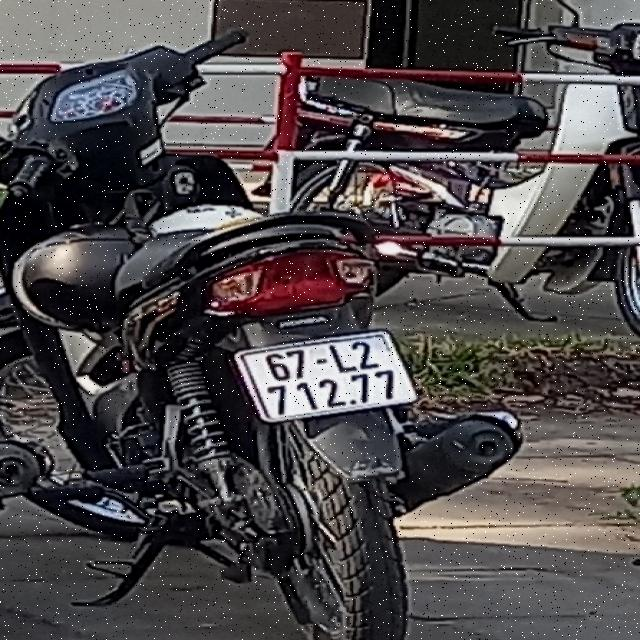1: (292, 380, 319, 411)
2: (353, 340, 382, 369), (319, 378, 343, 408)
6: (262, 353, 294, 381)
7: (347, 373, 376, 402), (374, 369, 400, 398), (286, 348, 308, 381), (265, 382, 287, 415)
L: (326, 344, 357, 372)
